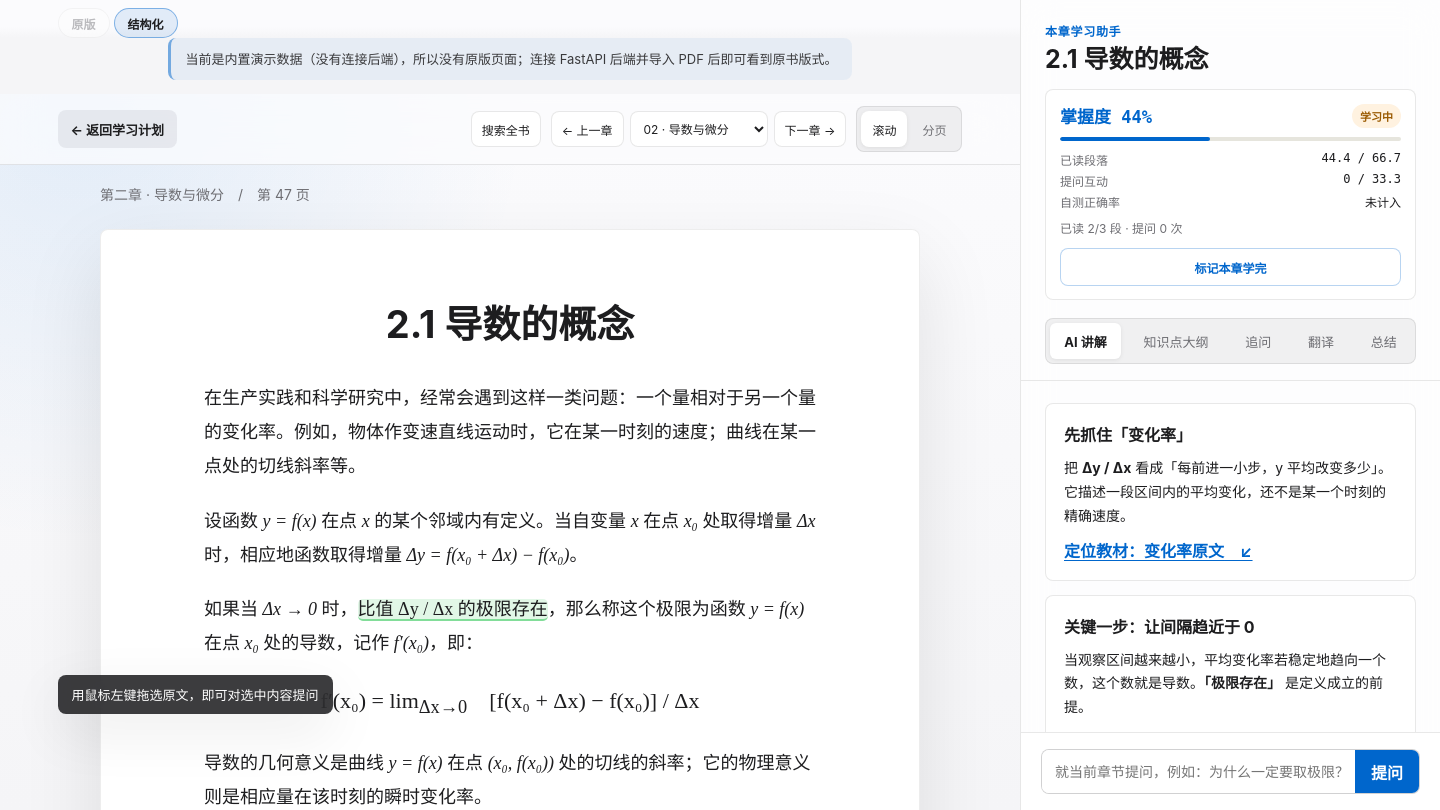
it: 全书搜索 › 跨章命中会被标出来——点下去是换章，不是在本章滚动
Expected: the element with test id "paper" is shown, [100,229,920,809]
Click the button with test id "search-toggle".
click(506, 129)  # box [471,111,541,147]
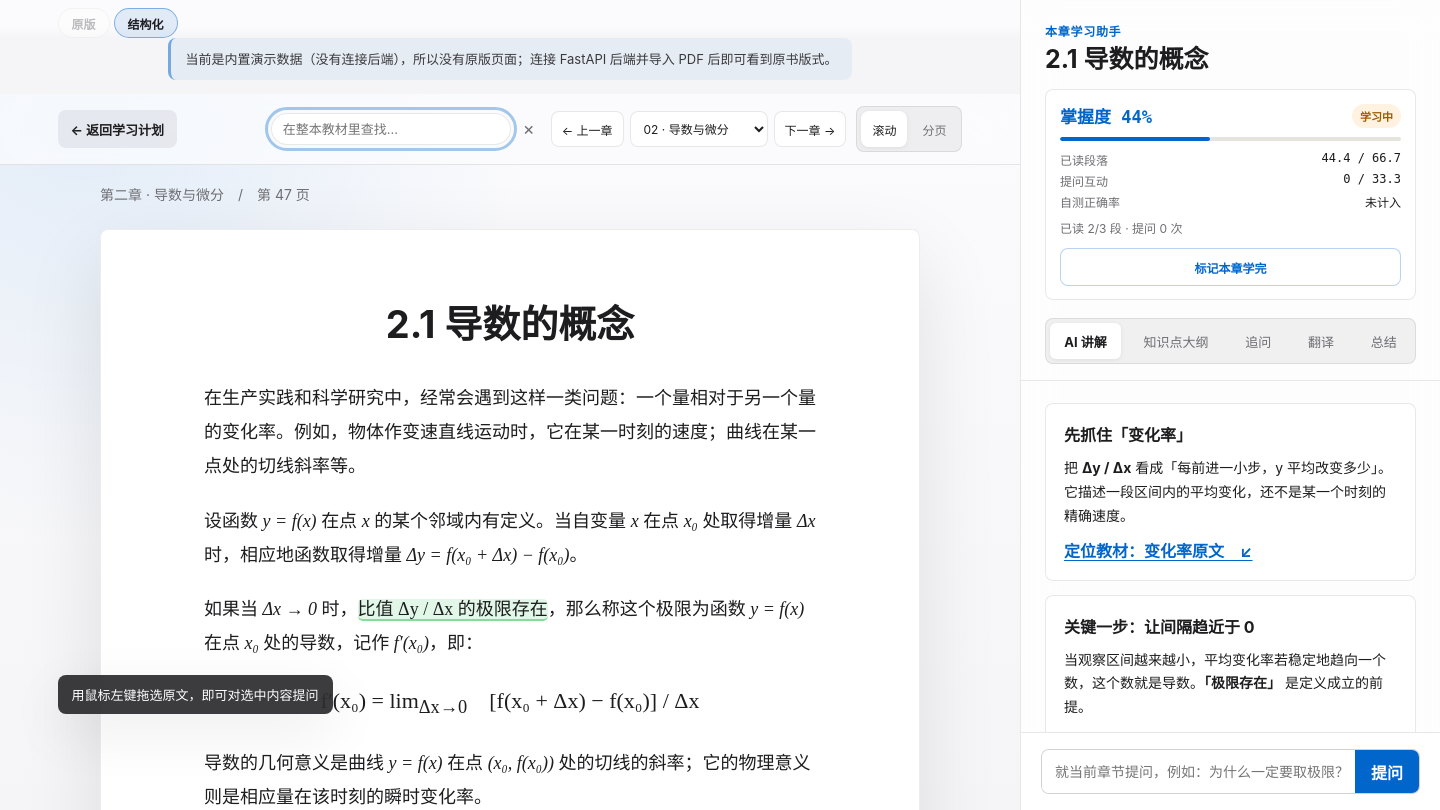
Type "极限" into the field named "搜索整本教材".
click(391, 129); type("极限")  # box [271,113,511,145]
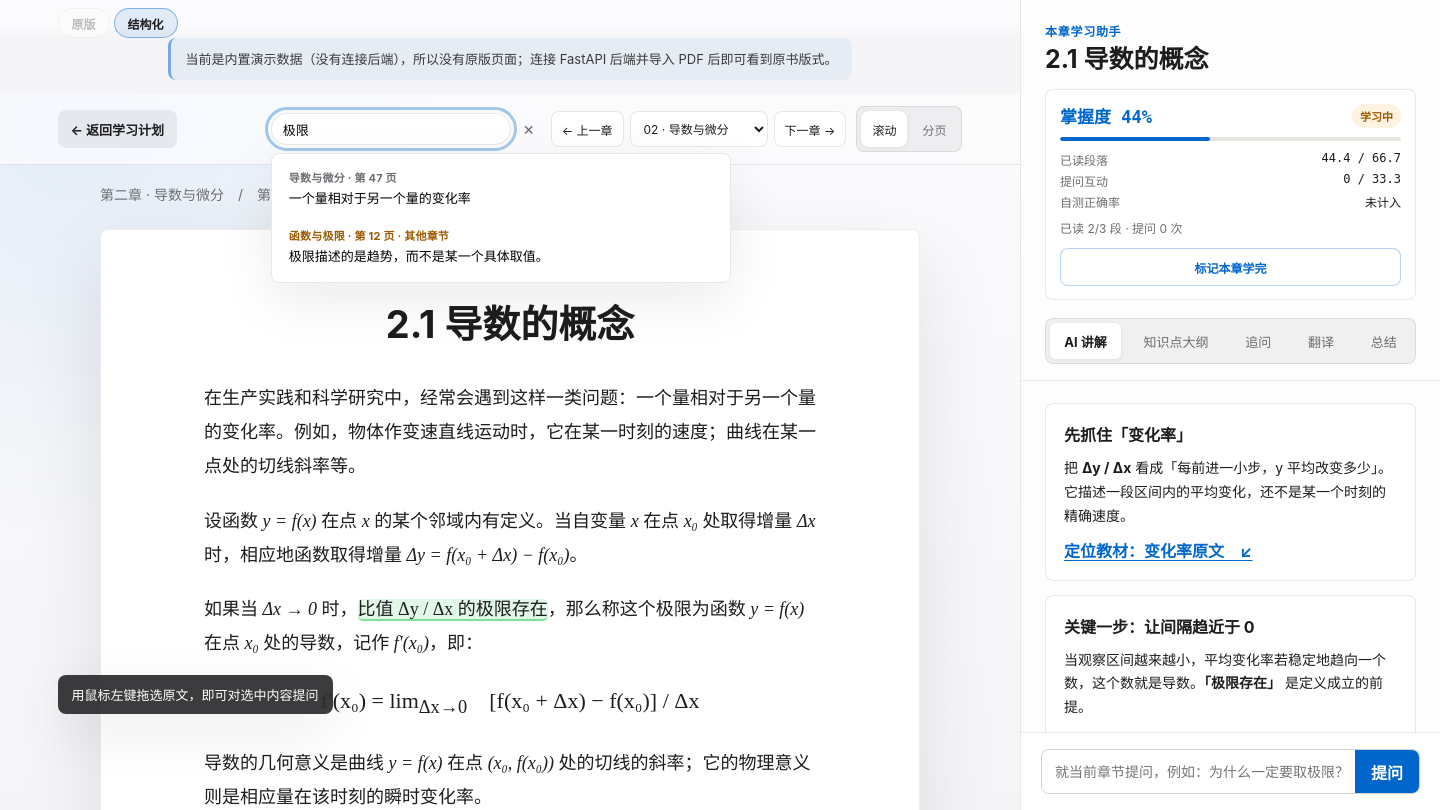
Expected: the button with test id "search-hit-source-rate" does not show "其他章节", [278,160,724,218]
Now the button with test id "search-hit-source-other" shows "其他章节", box [278,218,724,276]
